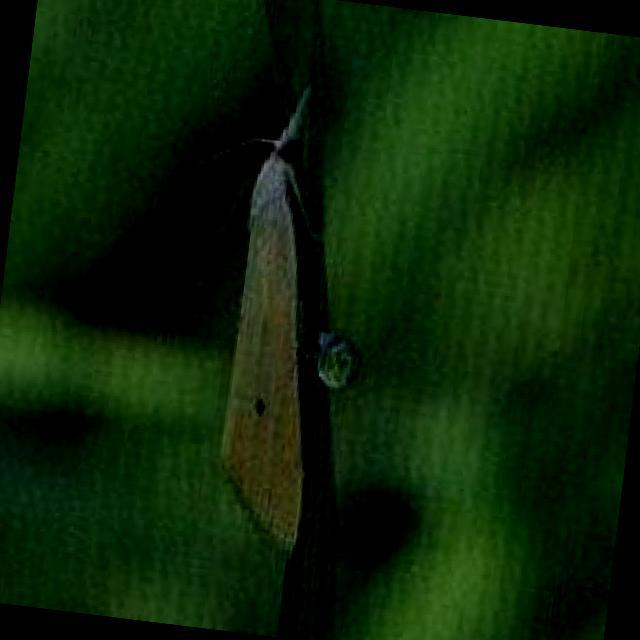stem borer: (223, 91, 329, 551)
